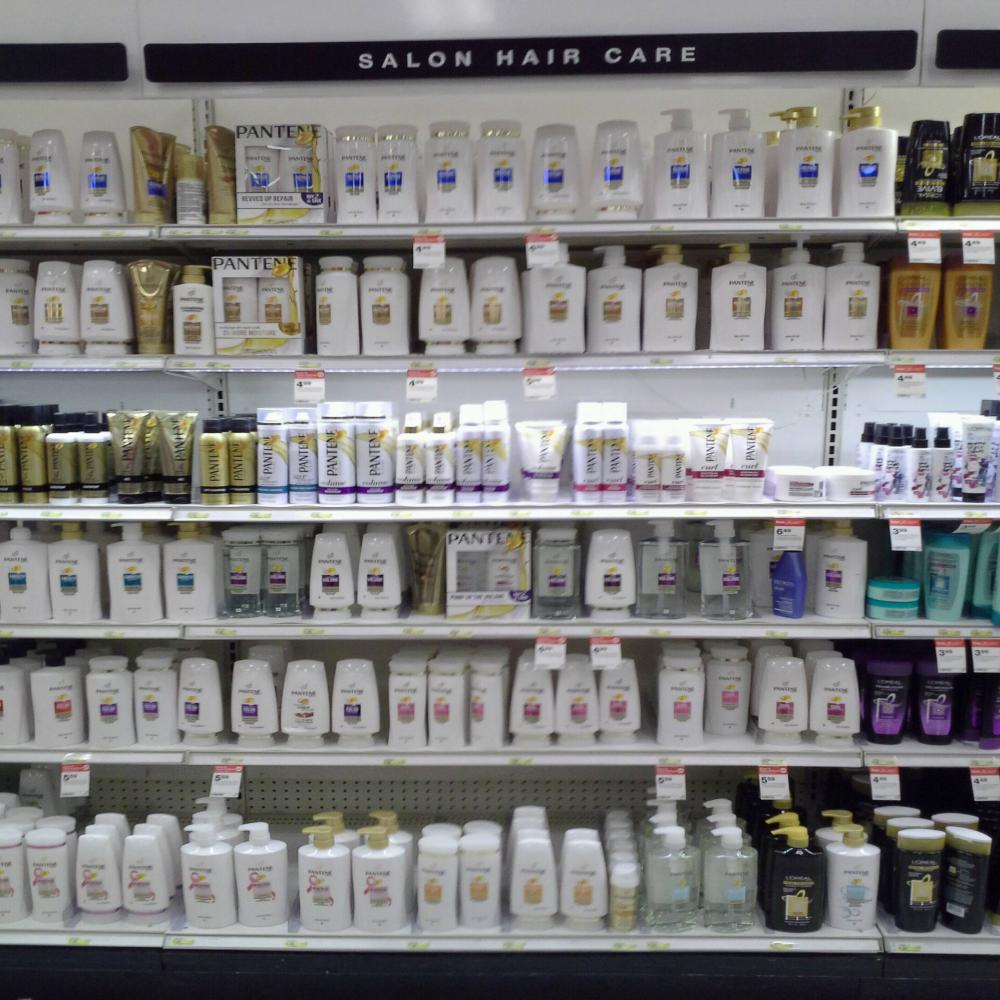shelf: (0, 928, 1000, 953), (0, 347, 1000, 371), (0, 501, 1000, 521), (0, 218, 1000, 236), (0, 751, 1000, 767), (0, 623, 1000, 638)
